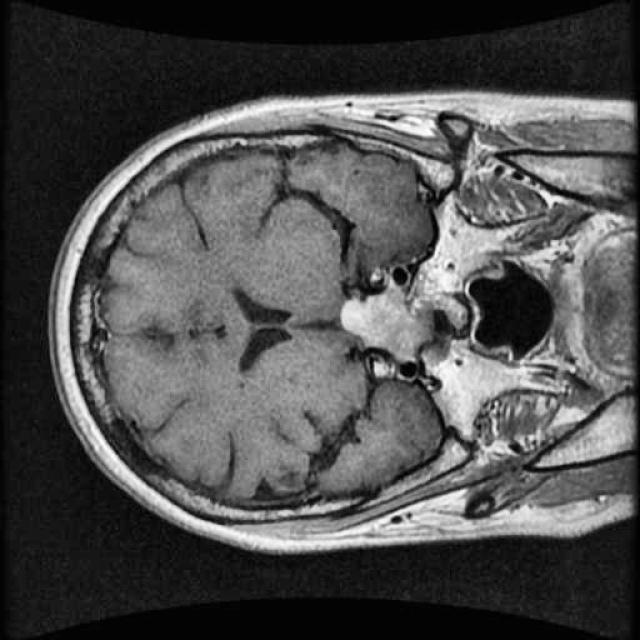Tumor: (325, 268, 455, 376)
